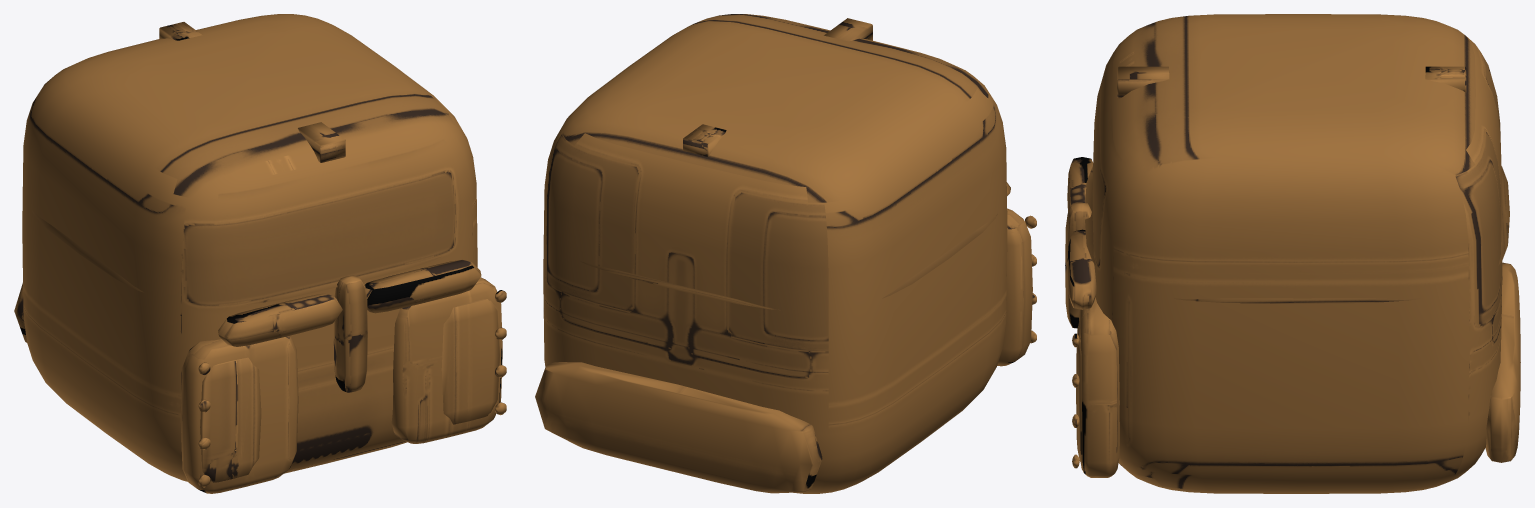
File: Atalanta_Casco.fbx
The picture shows the model from 3 angles, left to right: view 1: azimuth 30°, elevation 25°; view 2: azimuth 150°, elevation 25°; view 3: azimuth 270°, elevation 25°; orthographic projection. The views are drawn at different scales.
Parts seen in each view (by area): view 1: Atalanta_Casco; view 2: Atalanta_Casco; view 3: Atalanta_Casco.
Boxes of the visible parts, x1,y1,x2,y2 form: Atalanta_Casco: (14, 14, 506, 493); Atalanta_Casco: (535, 14, 1036, 493); Atalanta_Casco: (1065, 14, 1520, 493).
Bounding box in the file's own units: 1.41 × 1.35 × 1.51.
